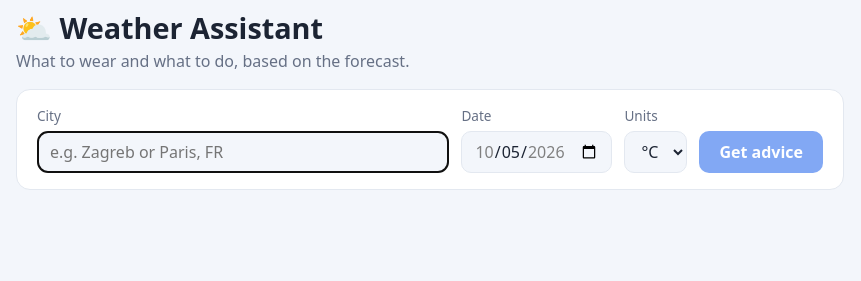
Scenario: App › shows the backend error message
The width and height of the screenshot is (861, 281).
Type "Atlantis" into the field labelled "City" at x=243, y=152, box [37,131,449,173]
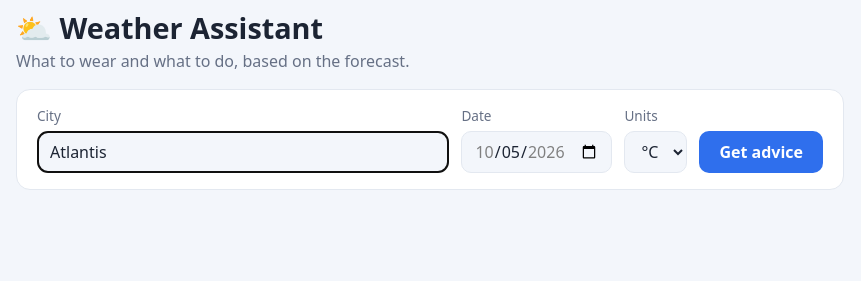
Click the button "Get advice" at x=761, y=152, box [699,131,823,173]
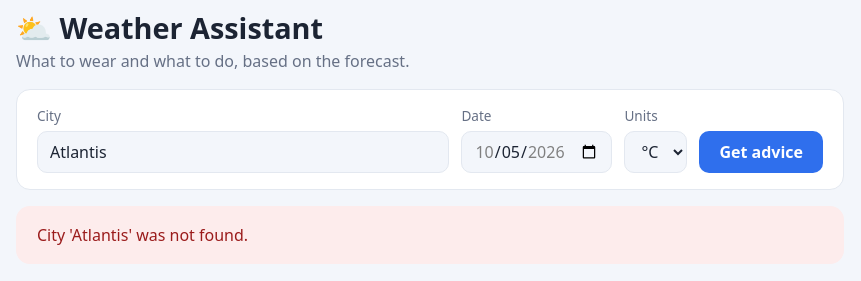
Result: the message reads "City 'Atlantis' was not found." at [37,224,248,246]
